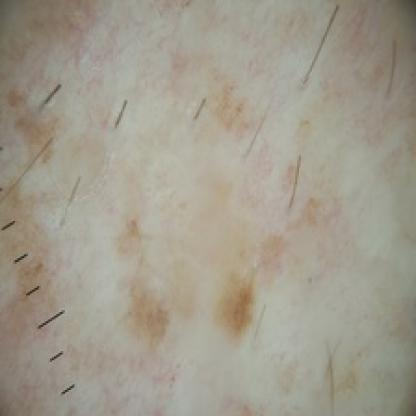malignant: (208, 256, 275, 342)
